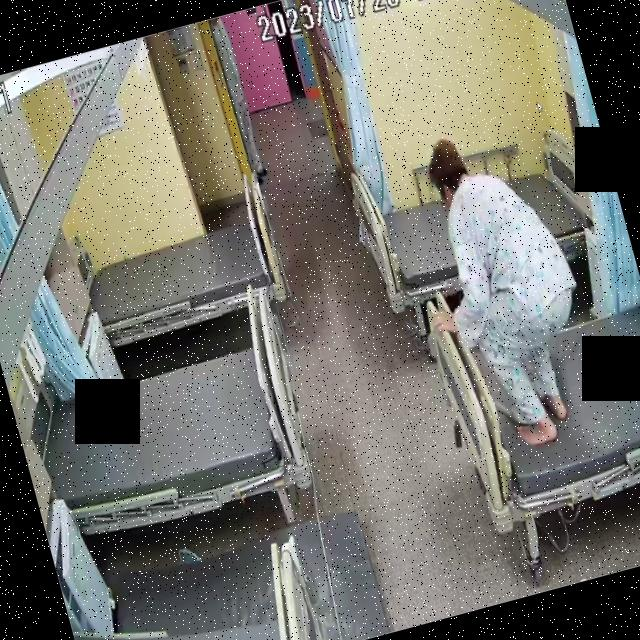bed: (417, 241, 640, 535), (24, 329, 318, 544), (352, 140, 609, 316), (80, 204, 288, 348)
danger: (387, 118, 612, 462)
patient: (386, 115, 614, 467)
